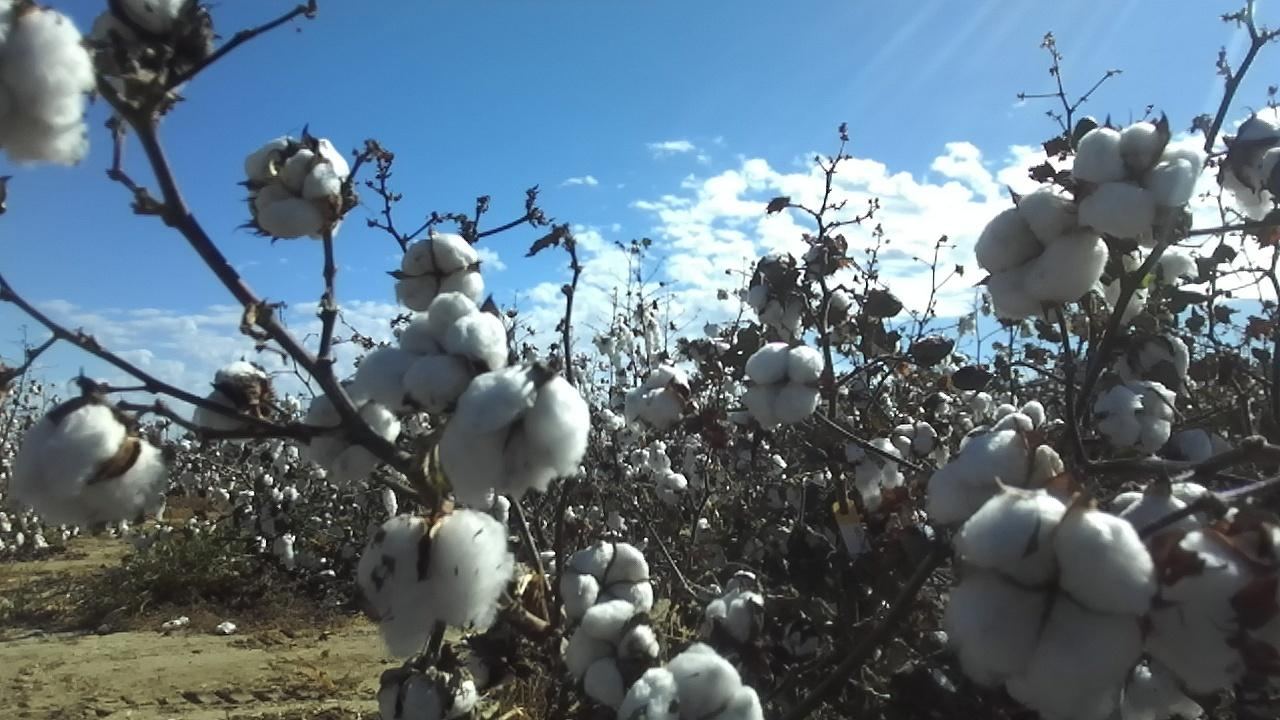cotton_ready: (940, 495, 1153, 720), (1148, 522, 1280, 699), (357, 514, 509, 660), (4, 404, 170, 525), (443, 370, 585, 508), (357, 295, 507, 414), (977, 191, 1108, 320), (0, 0, 95, 172), (1072, 122, 1202, 244), (929, 413, 1064, 524), (617, 644, 767, 720), (247, 137, 350, 237), (564, 602, 659, 710), (304, 384, 399, 482), (1107, 241, 1198, 325), (742, 345, 825, 437), (397, 232, 485, 313), (1105, 481, 1217, 544), (564, 542, 655, 619), (1090, 385, 1177, 457), (1222, 118, 1280, 219), (91, 0, 192, 57), (376, 669, 482, 720), (193, 360, 265, 430), (700, 565, 767, 636), (1120, 670, 1208, 720), (745, 257, 805, 330), (623, 362, 685, 432), (1110, 335, 1190, 384), (1166, 425, 1239, 471)
